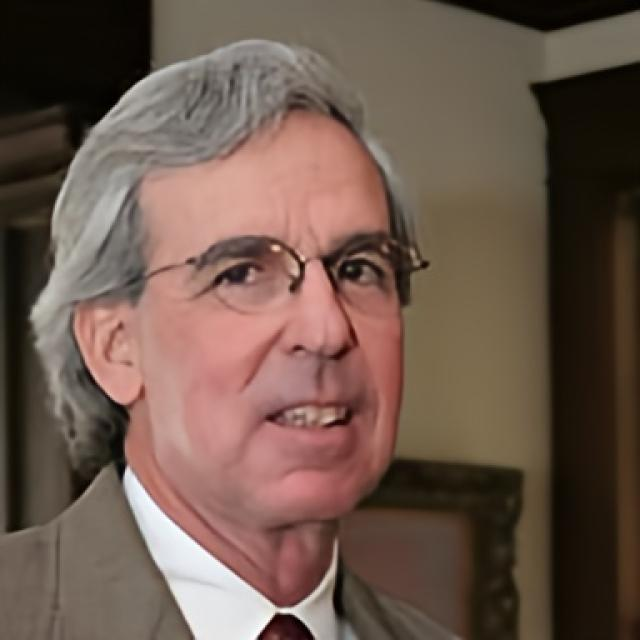disgust: (142, 132, 404, 524)
